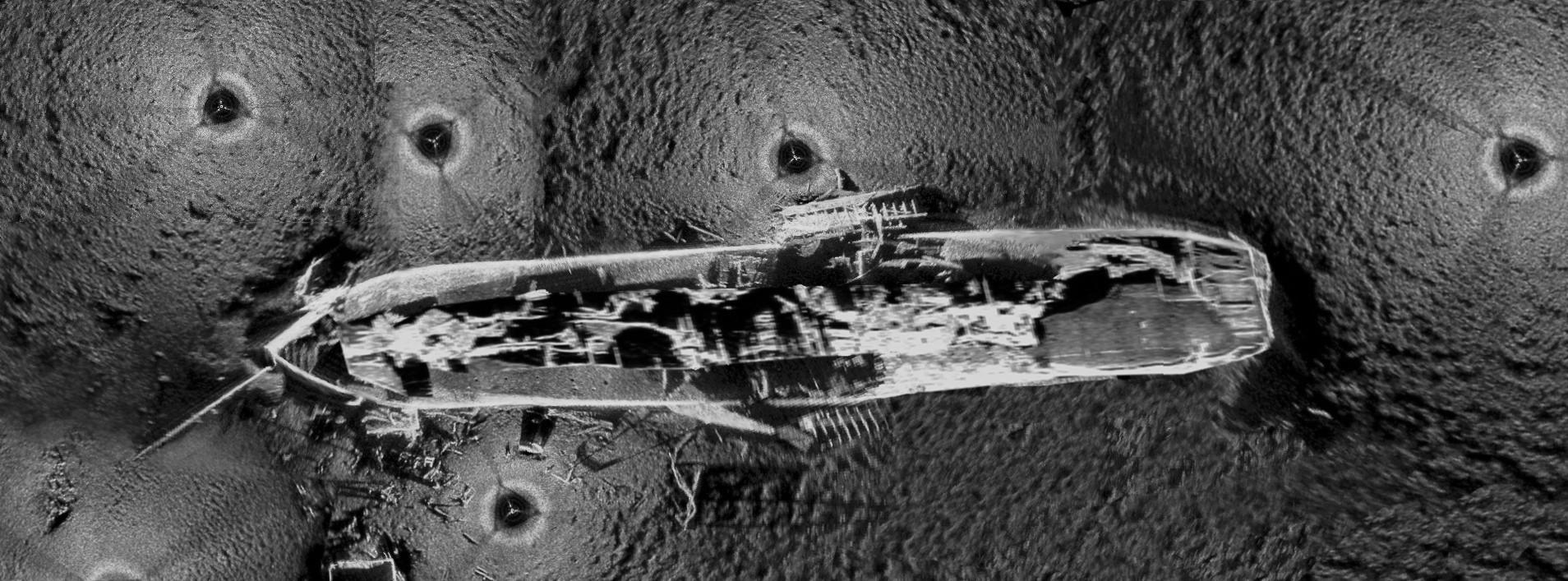ship: (261, 222, 1276, 417)
